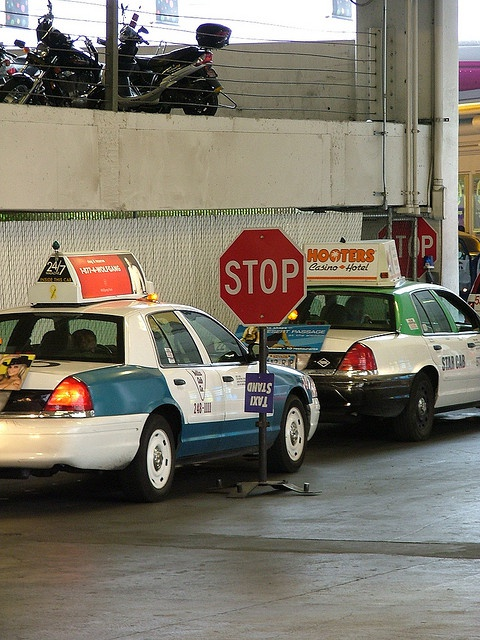non-vehicle: (87, 4, 232, 117), (0, 3, 107, 105)
